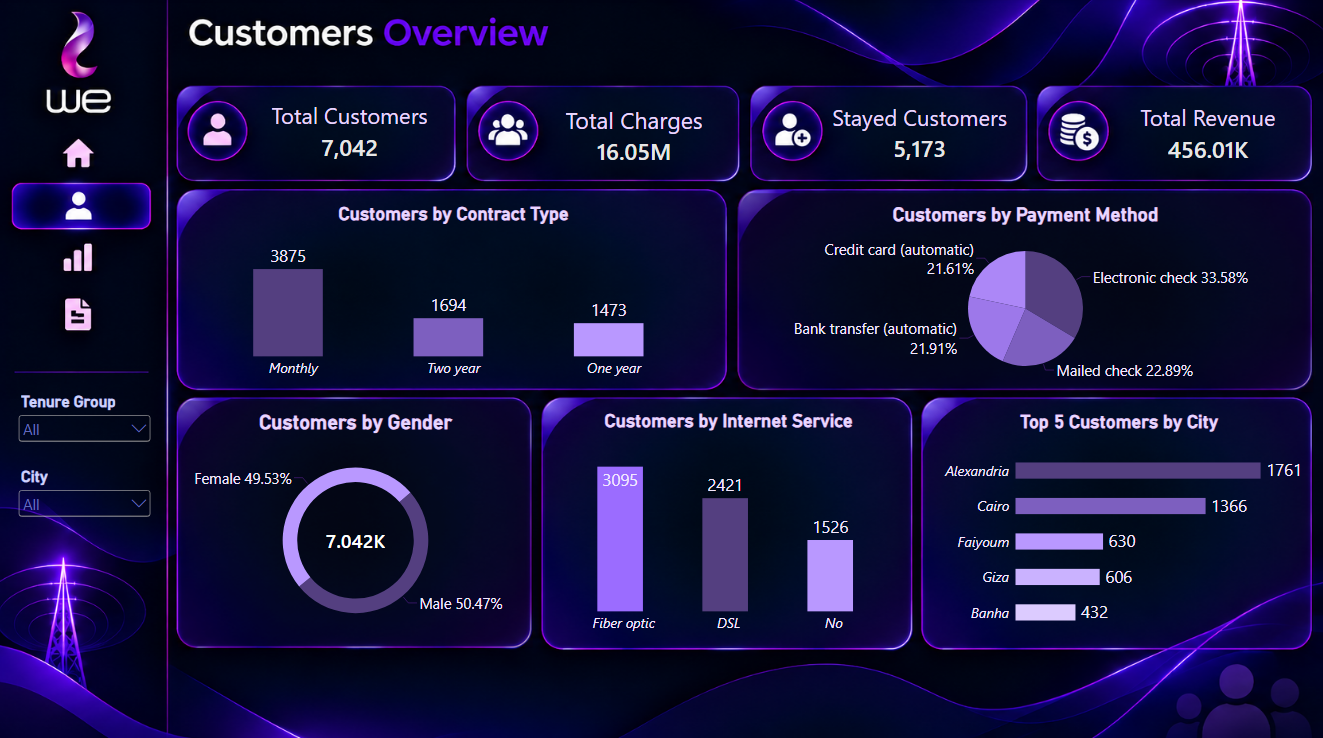

The dashboard page shown, as its layout file describes it:
{"tool":"powerbi","page":{"name":"Customers","canvas":[1920,1080],"ordinal":1},"visuals":[{"type":"clusteredColumnChart","title":"Customers by Contract Type","fields":{"Category":["DimContract.Contract Short"],"Y":["FactCustomer.Total Customers Calc"]},"box":[260.6,284.1,798.1,287.7],"z":0},{"type":"lineClusteredColumnComboChart","title":"Customers by Internet Service","fields":{"Category":["DimService.internet_service"],"Y":["FactCustomer.Total Customers Calc"]},"box":[790.8,582.7,533.8,358.3],"z":1000},{"type":"donutChart","title":"Customers by Gender","fields":{"Category":["DimCustomer.gender"],"Y":["CountNonNull(DimCustomer.customer_id)"]},"box":[259.9,583.8,513.9,356.5],"z":2000},{"type":"pieChart","title":"Customers by Payment Method","fields":{"Category":["DimPayment.payment_method"],"Y":["FactCustomer.Total Customers Calc"]},"box":[1071.3,284.1,832.4,287.7],"z":3000},{"type":"barChart","title":"Top 5 Customers by City","fields":{"Category":["DimCustomer.city"],"Y":["FactCustomer.Total Customers Calc"]},"box":[1342.8,584.5,561,356.5],"z":4000},{"type":"actionButton","box":[18.1,338.4,197.3,74.2],"z":5000},{"type":"cardVisual","fields":{"Data":["FactCustomer.Total Customers"]},"box":[260.6,124.9,403.6,139.3],"z":6000},{"type":"cardVisual","fields":{"Data":["FactCustomer.Total Revenue"]},"box":[1505.6,132.1,398.1,132.1],"z":7000},{"type":"cardVisual","fields":{"Data":["FactCustomer.Stayed Customers"]},"box":[1085.8,130.3,403.6,133.9],"z":8000},{"type":"cardVisual","fields":{"Data":["Sum(FactCustomer.Total_charges)"]},"box":[676.8,130.3,394.5,141.2],"z":9000},{"type":"actionButton","box":[18,192.8,197.3,76],"z":10000},{"type":"actionButton","box":[25.3,412.6,193.6,83.2],"z":11000},{"type":"slicer","fields":{"Values":["DimCustomer.city"]},"box":[25.3,680.4,200,108],"z":12000},{"type":"slicer","fields":{"Values":["FactCustomer.tenure_group"]},"box":[25.3,571.9,200,108],"z":13000}]}

Visuals, with their boxes in screenshot pixels (x1, y1, x2, y2), scaled from the page's 1920x1080 canvas onto the 1323x738 screenshot:
"Customers by Contract Type" clusteredColumnChart: box=[180, 194, 730, 391]
"Customers by Internet Service" lineClusteredColumnComboChart: box=[545, 398, 913, 643]
"Customers by Gender" donutChart: box=[179, 399, 533, 643]
"Customers by Payment Method" pieChart: box=[738, 194, 1312, 391]
"Top 5 Customers by City" barChart: box=[925, 399, 1312, 643]
actionButton: box=[12, 231, 148, 282]
cardVisual - FactCustomer.Total Customers: box=[180, 85, 458, 181]
cardVisual - FactCustomer.Total Revenue: box=[1037, 90, 1312, 181]
cardVisual - FactCustomer.Stayed Customers: box=[748, 89, 1026, 181]
cardVisual - Sum(FactCustomer.Total_charges): box=[466, 89, 738, 186]
actionButton: box=[12, 132, 148, 184]
actionButton: box=[17, 282, 151, 339]
slicer - DimCustomer.city: box=[17, 465, 155, 539]
slicer - FactCustomer.tenure_group: box=[17, 391, 155, 465]
